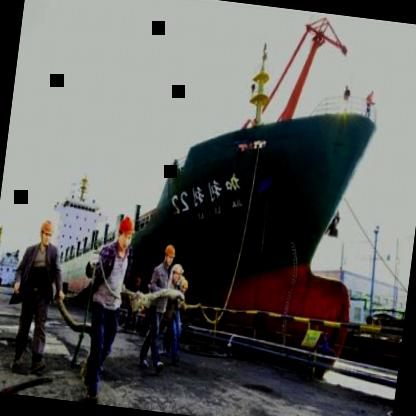helmet: (112, 210, 136, 254), (38, 218, 56, 249), (162, 242, 177, 271)
